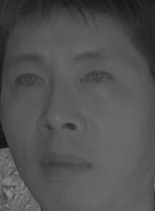eye: (78, 66, 115, 90), (15, 67, 47, 93)
mouth: (32, 146, 97, 182)
